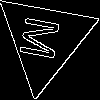M: (19, 14, 69, 63)
